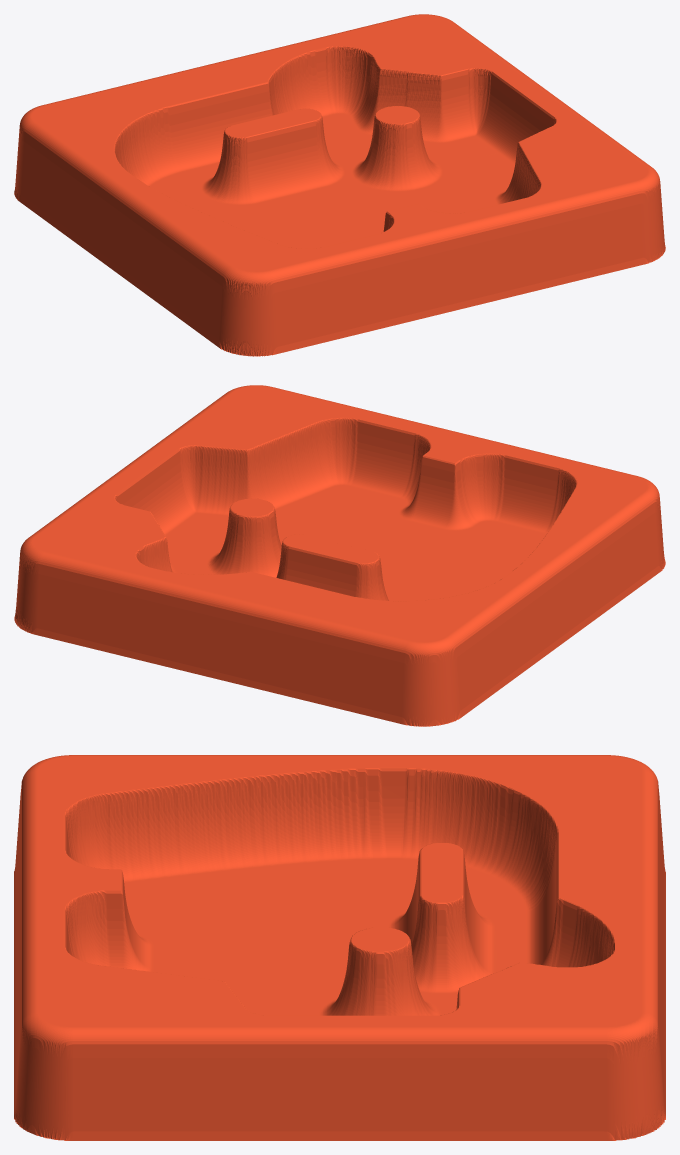
Rendered from mold.glb.
3 views of the same model, one above another, from view 1: azimuth 30°, elevation 25°; view 2: azimuth 150°, elevation 25°; view 3: azimuth 270°, elevation 25° (orthographic). The views are drawn at different scales.
Parts seen in each view (by area): view 1: geometry_0; view 2: geometry_0; view 3: geometry_0.
Boxes of the visible parts, x1,y1,x2,y2 form: geometry_0: [14, 14, 665, 356]; geometry_0: [14, 385, 665, 726]; geometry_0: [14, 755, 665, 1140].
Bounding box in the file's own units: 0.105 × 0.0175 × 0.0996.
